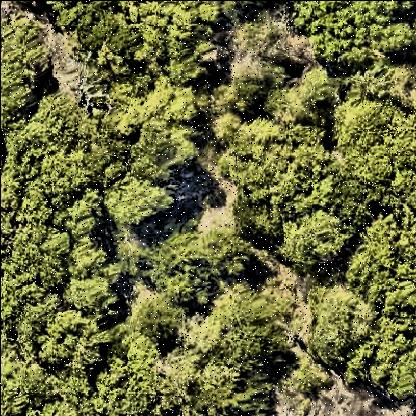tree-top: (206, 99, 329, 205), (7, 89, 109, 199), (36, 193, 113, 311), (130, 232, 244, 308), (288, 5, 416, 68), (332, 97, 416, 183), (116, 84, 202, 168), (347, 205, 416, 309), (344, 319, 416, 403), (50, 2, 138, 68), (299, 291, 375, 364), (218, 291, 278, 379), (273, 207, 353, 272), (98, 335, 161, 416), (136, 1, 200, 77), (1, 359, 85, 416), (1, 20, 49, 113), (267, 63, 329, 129), (101, 178, 177, 227), (38, 309, 94, 371), (191, 375, 266, 416), (153, 351, 206, 409), (228, 49, 272, 101), (139, 295, 183, 346), (227, 197, 275, 243), (290, 364, 334, 400)
